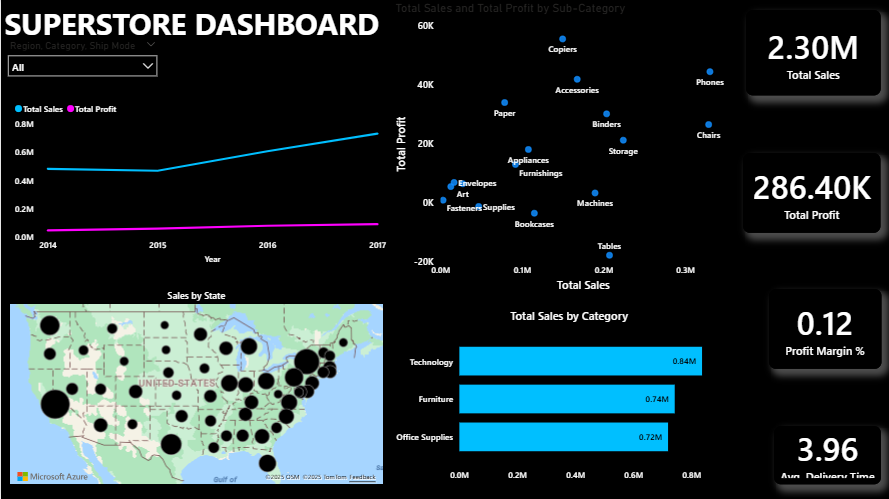

What the dashboard file says about the page in this screenshot:
{"tool":"powerbi","page":{"name":"Page 1","canvas":[1280,720],"ordinal":0},"visuals":[{"type":"card","fields":{"Values":["Sample - Superstore.Total Sales"]},"box":[1072.9,14.2,194.2,123.3],"z":0},{"type":"textbox","box":[0,0,562.7,72.3],"z":1},{"type":"slicer","fields":{"Values":["Sample - Superstore.Region","Sample - Superstore.Category","Sample - Superstore.Ship Mode"]},"box":[0,52.4,235.3,70.9],"z":2},{"type":"card","fields":{"Values":["Sample - Superstore.Total Profit"]},"box":[1068.7,219.7,198.4,114.8],"z":3},{"type":"card","fields":{"Values":["Sample - Superstore.Profit Margin %"]},"box":[1105.5,416.7,161.6,114.8],"z":4},{"type":"card","fields":{"Values":["Sample - Superstore.Avg. Delivery Time"]},"box":[1112.6,613.7,154.5,83.6],"z":5},{"type":"lineChart","fields":{"Category":["Sample - Superstore.Order Date.Variation.Date Hierarchy.Year","Sample - Superstore.Order Date.Variation.Date Hierarchy.Quarter","Sample - Superstore.Order Date.Variation.Date Hierarchy.Month","Sample - Superstore.Order Date.Variation.Date Hierarchy.Day"],"Y":["Sample - Superstore.Total Sales","Sample - Superstore.Total Profit"]},"box":[14.2,137.5,545.7,248],"z":6},{"type":"azureMap","title":"Sales by State","fields":{"Category":["Sample - Superstore.State"],"Size":["Sample - Superstore.Total Sales"]},"box":[8.5,416.7,545.7,286.3],"z":7},{"type":"clusteredBarChart","fields":{"Category":["Sample - Superstore.Category","Sample - Superstore.Sub-Category"],"Y":["Sample - Superstore.Total Sales"]},"box":[562.7,443.6,510.2,259.4],"z":8},{"type":"scatterChart","fields":{"X":["Sample - Superstore.Total Sales"],"Y":["Sample - Superstore.Total Profit"],"Category":["Sample - Superstore.Sub-Category"]},"box":[562.7,1.4,500.3,423.8],"z":9}]}

Visuals, with their boxes in screenshot pixels (x1, y1, x2, y2), scaled from the page's 1280x720 canvas onto the 889x499 screenshot:
card - Sample - Superstore.Total Sales: [x1=745, y1=10, x2=880, y2=95]
textbox: [x1=0, y1=0, x2=391, y2=50]
slicer - Sample - Superstore.Region x Sample - Superstore.Category: [x1=0, y1=36, x2=163, y2=85]
card - Sample - Superstore.Total Profit: [x1=742, y1=152, x2=880, y2=232]
card - Sample - Superstore.Profit Margin %: [x1=768, y1=289, x2=880, y2=368]
card - Sample - Superstore.Avg. Delivery Time: [x1=773, y1=425, x2=880, y2=483]
lineChart - Sample - Superstore.Order Date.Variation.Date Hierarchy.Year x Sample - Superstore.Order Date.Variation.Date Hierarchy.Quarter: [x1=10, y1=95, x2=389, y2=267]
"Sales by State" azureMap: [x1=6, y1=289, x2=385, y2=487]
clusteredBarChart - Sample - Superstore.Category x Sample - Superstore.Sub-Category: [x1=391, y1=307, x2=745, y2=487]
scatterChart - Sample - Superstore.Total Sales x Sample - Superstore.Total Profit: [x1=391, y1=1, x2=738, y2=295]
